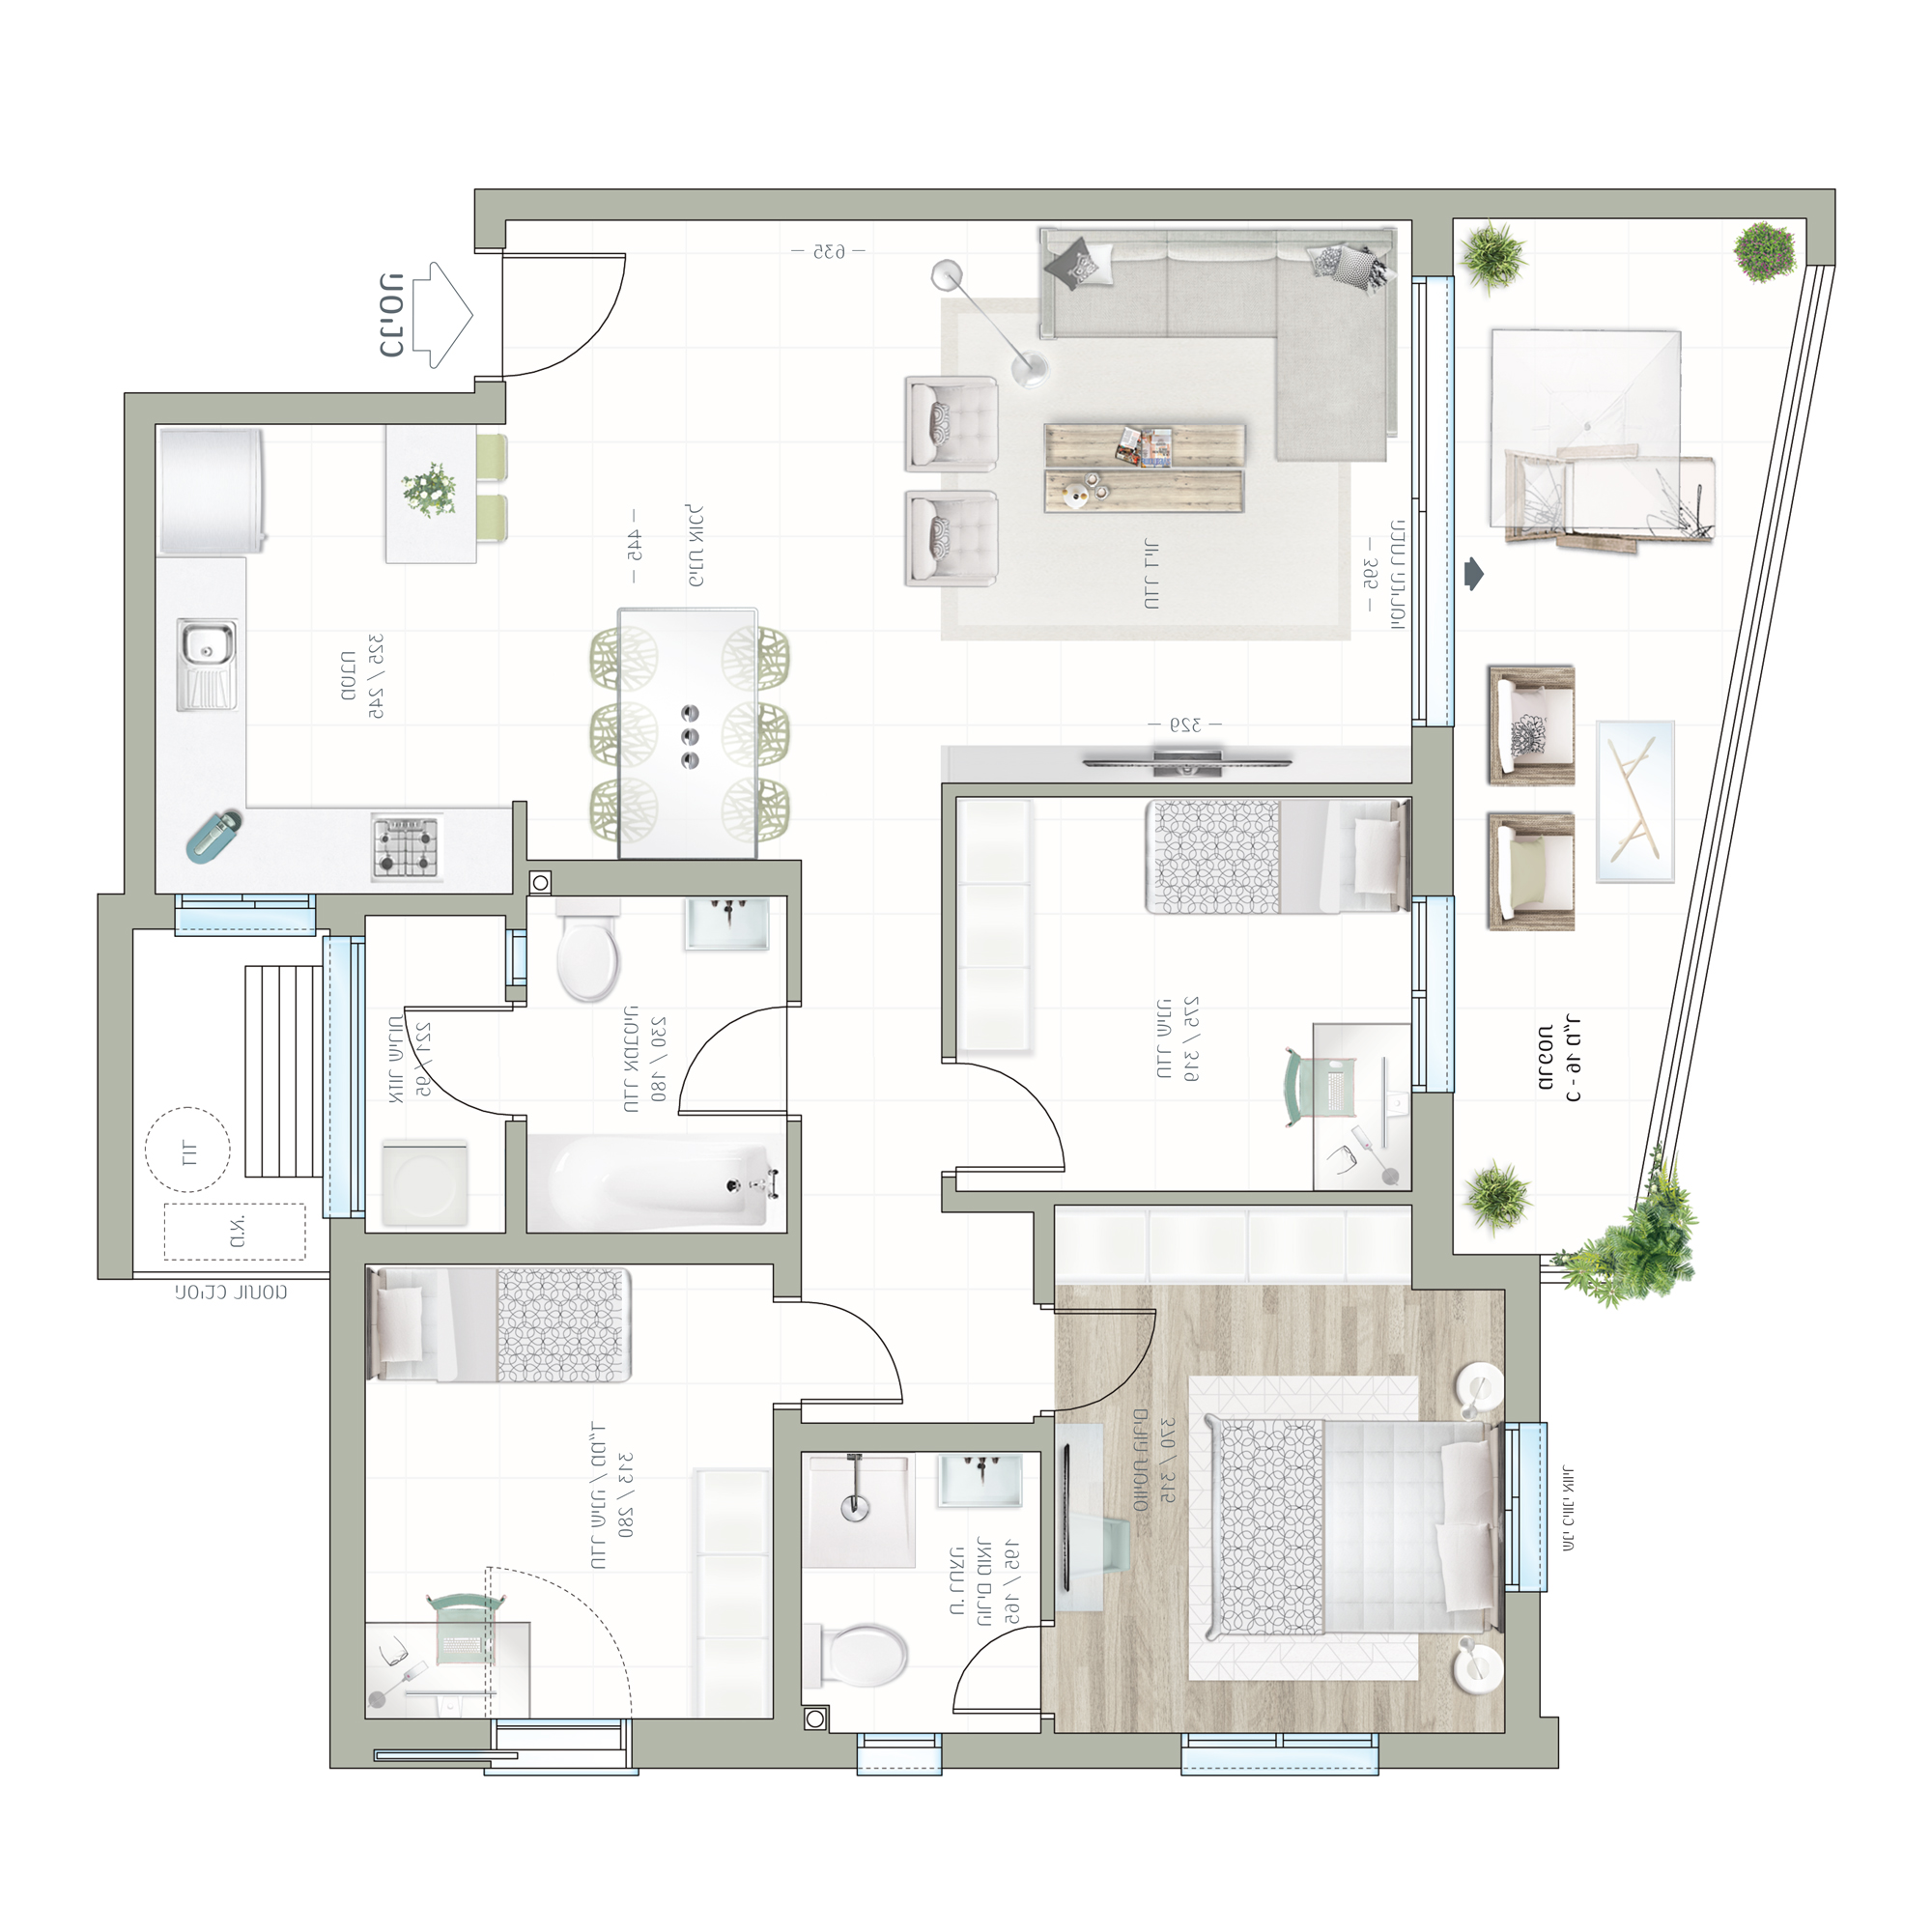door: (375, 975, 510, 1127), (515, 235, 649, 386), (653, 991, 787, 1141), (961, 1035, 1095, 1185), (807, 1290, 906, 1415), (1062, 1295, 1161, 1421), (941, 1603, 1039, 1729)
wall: (476, 189, 1833, 221), (331, 1233, 364, 1773), (124, 395, 154, 893), (97, 895, 134, 1277), (334, 1235, 801, 1265), (124, 393, 508, 423), (1412, 1095, 1456, 1290), (943, 784, 1415, 796), (1412, 1254, 1541, 1290)
window: (1410, 278, 1454, 727), (324, 936, 363, 1221), (1412, 897, 1458, 1093), (1182, 1736, 1378, 1778), (1504, 1422, 1548, 1591), (175, 895, 317, 936), (858, 1734, 945, 1778)
